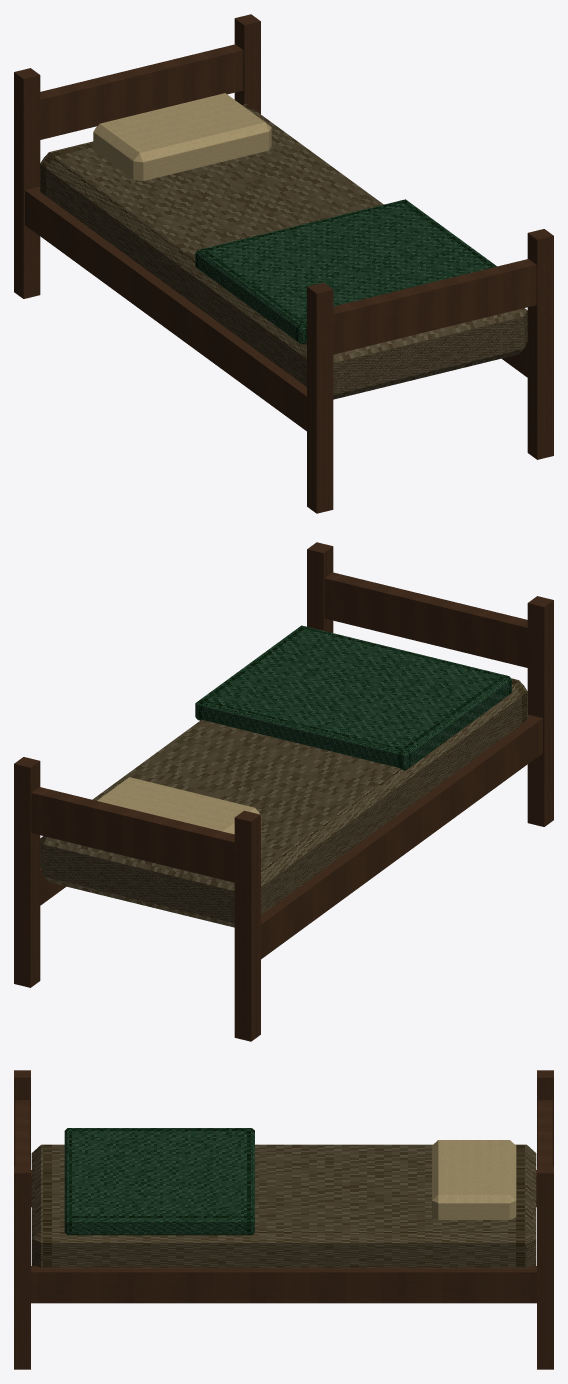
The model's file is level_trace_camp_bed.glb.
3 renders of one model, top to bottom at view 1: azimuth 30°, elevation 25°; view 2: azimuth 150°, elevation 25°; view 3: azimuth 270°, elevation 25°, orthographic. The views are drawn at different scales.
Visible parts, largest first — view 1: level_trace_camp_bed; view 2: level_trace_camp_bed; view 3: level_trace_camp_bed.
Boxes of the visible parts, <box> form: level_trace_camp_bed: <box>14,14,553,513</box>; level_trace_camp_bed: <box>14,542,553,1041</box>; level_trace_camp_bed: <box>14,1070,553,1369</box>.
Bounding box in the file's own units: 0.925 × 0.82 × 2.05.
4 materials, 4 textured.
